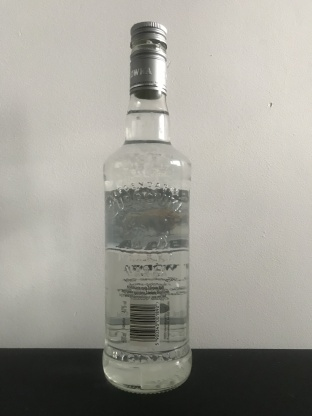nakretka: (128, 19, 168, 99)
